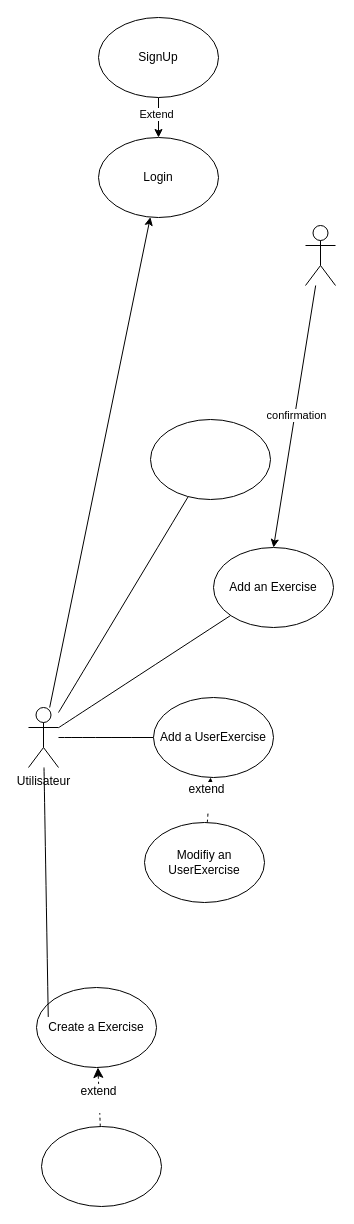
Image size: 354x1224. Some labels were removed from this diagram. Each missing label, with the centre of its shape:
"admin" belongs at (x=320, y=255).
"Modify an Exercise" belongs at (x=101, y=1166).
"Search an exercise" belongs at (x=210, y=459).
